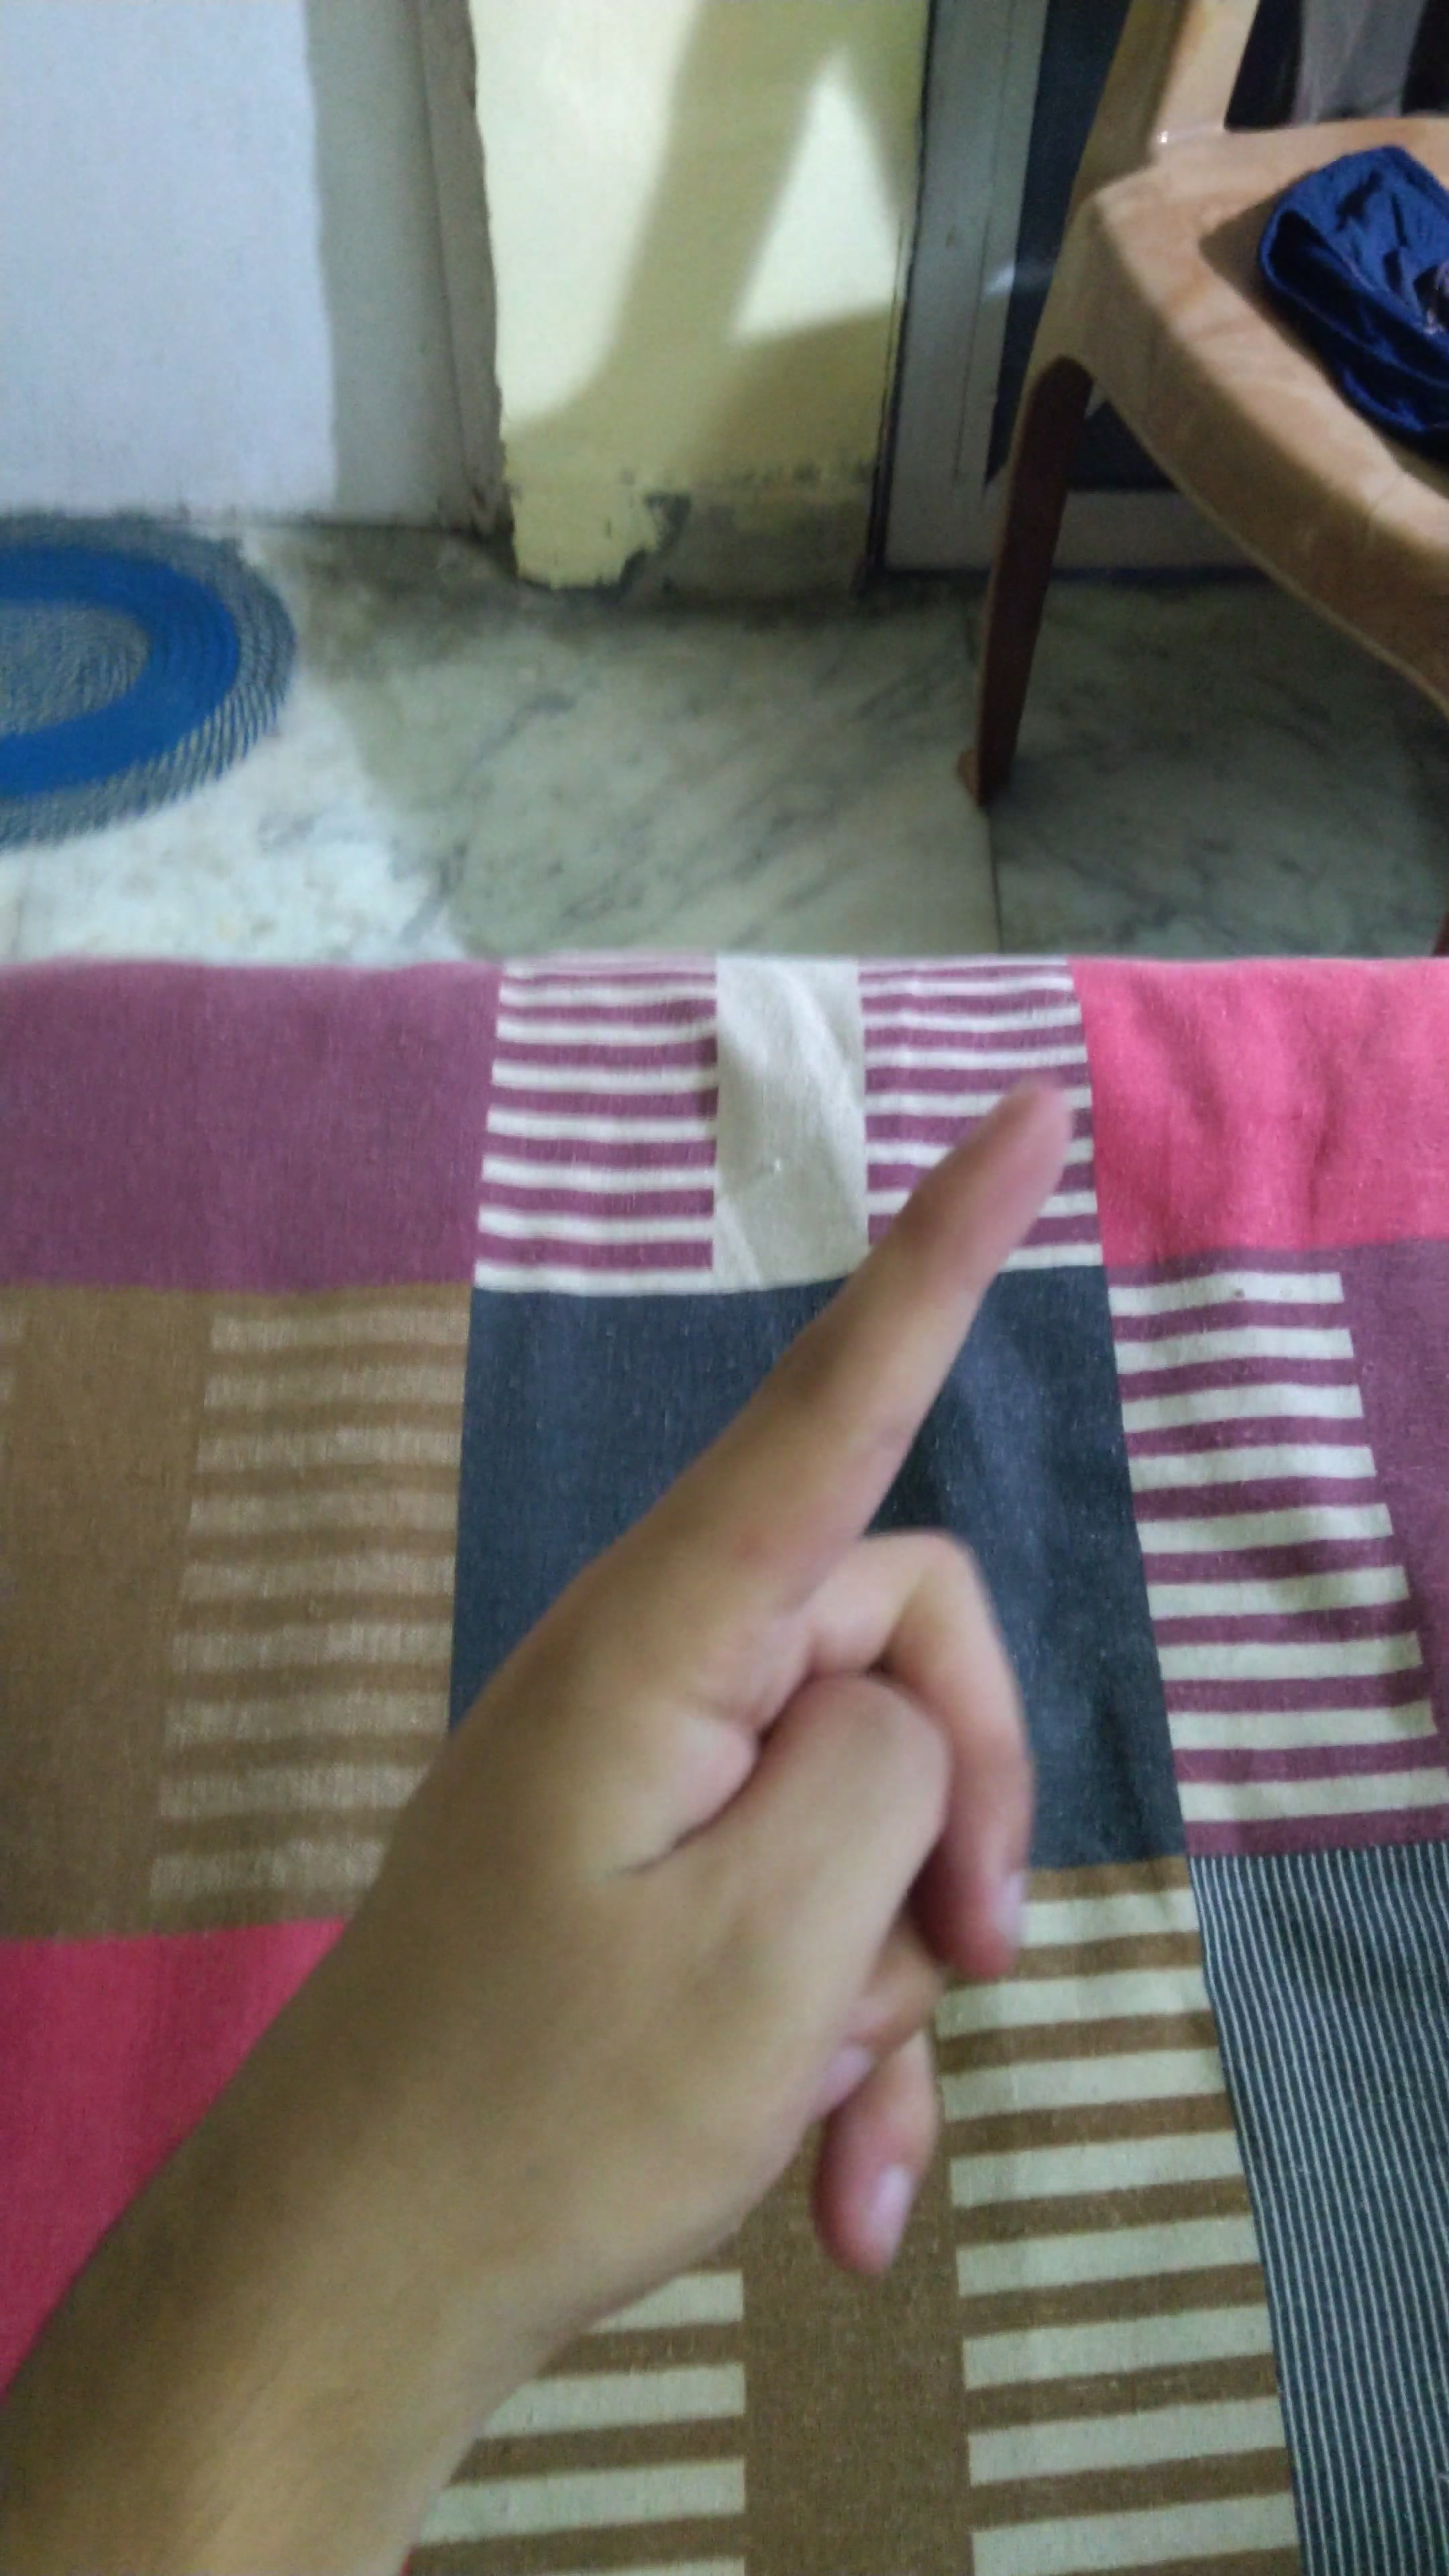hand: (379, 1019, 1127, 2314)
